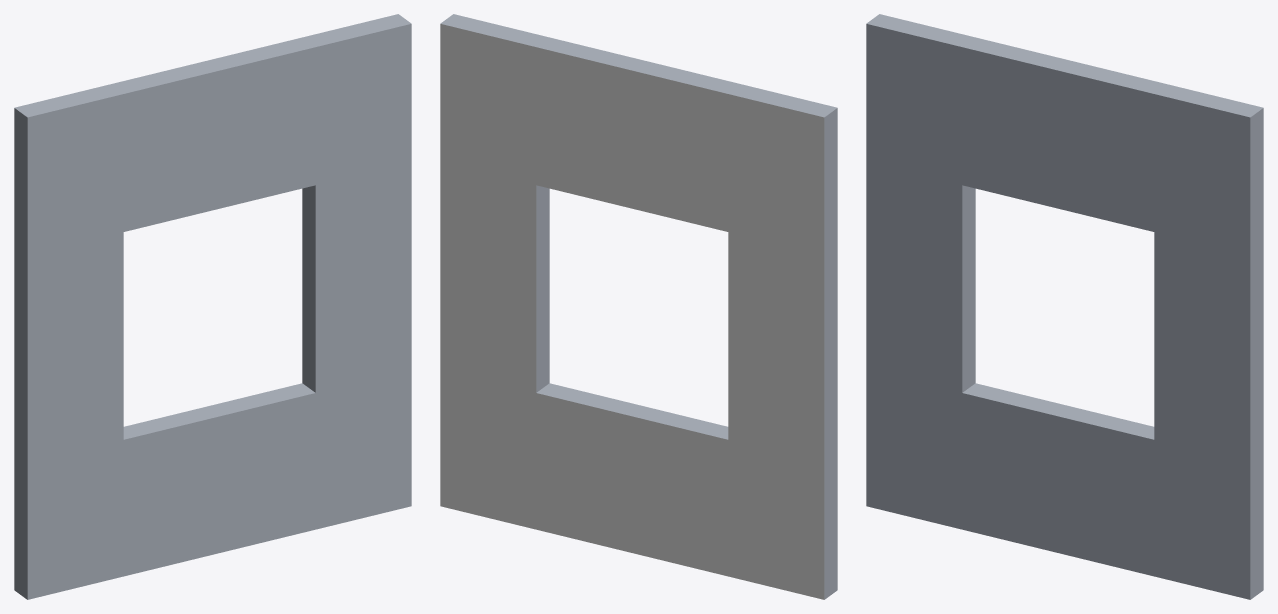
File: Wall1_C5_04.fbx
The picture shows the model from 3 angles, left to right: view 1: azimuth 30°, elevation 25°; view 2: azimuth 150°, elevation 25°; view 3: azimuth 330°, elevation 25°; orthographic projection.
Visible parts, largest first — view 1: Wall1_C5_04; view 2: Wall1_C5_04; view 3: Wall1_C5_04.
Part boxes in pixels (left/top/right/bottom): Wall1_C5_04: left=14, top=14, right=411, bottom=599; Wall1_C5_04: left=440, top=14, right=837, bottom=599; Wall1_C5_04: left=866, top=14, right=1263, bottom=599.
Size of the model in its own units: 250 by 300 by 15.
